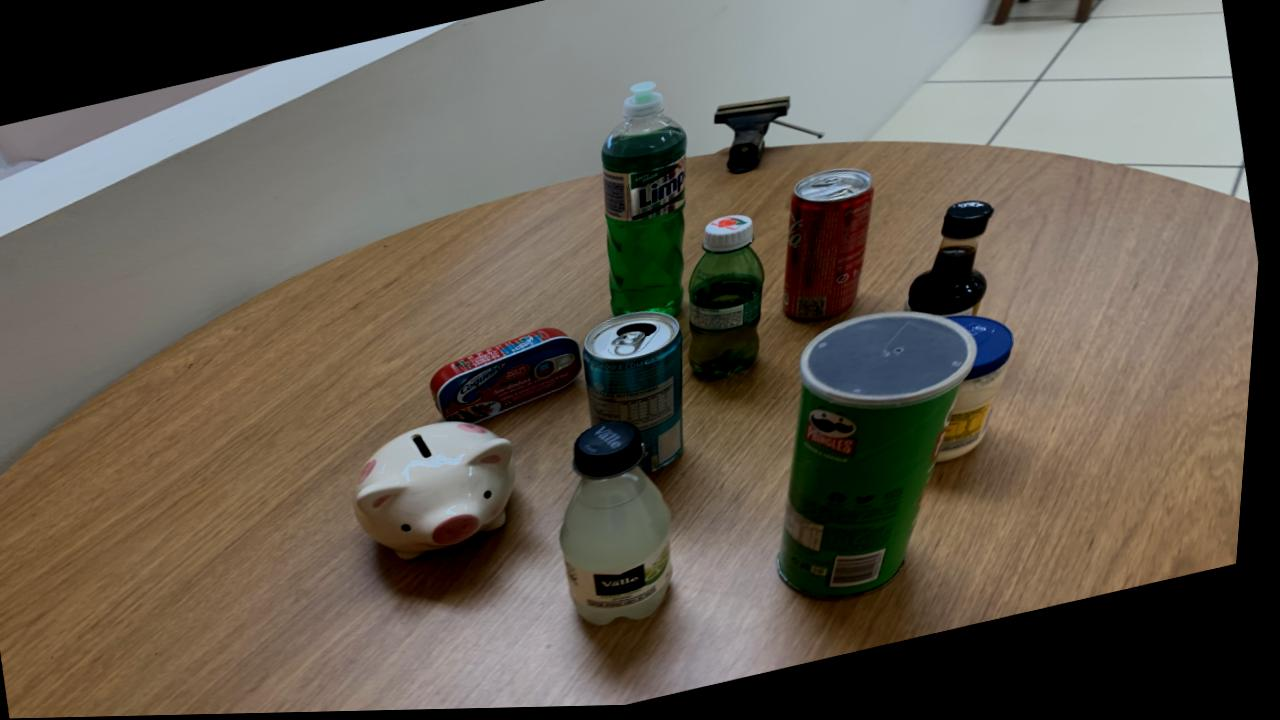Coke-Drinks: (788, 172, 877, 324)
Detergent-Cleanup_Items: (603, 84, 690, 319)
English_Sauce-Pantry_Items: (910, 204, 998, 321)
Guarana-Drinks: (692, 218, 768, 382)
Mayonnaise-Pantry_Items: (944, 320, 1019, 467)
Pig_Safe-Miscellaneous: (361, 423, 523, 562)
Pringles-Snacks: (785, 315, 982, 603)
Soda-Drinks: (568, 424, 681, 628)
Tea-Drinks: (587, 314, 691, 477)
Tuna_Can-Pantry_Items: (435, 330, 587, 424)
